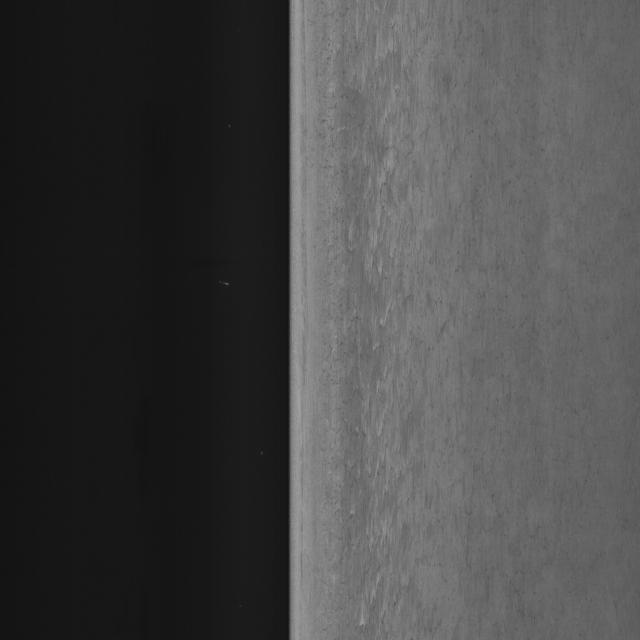inclusion: (333, 30, 521, 618)
